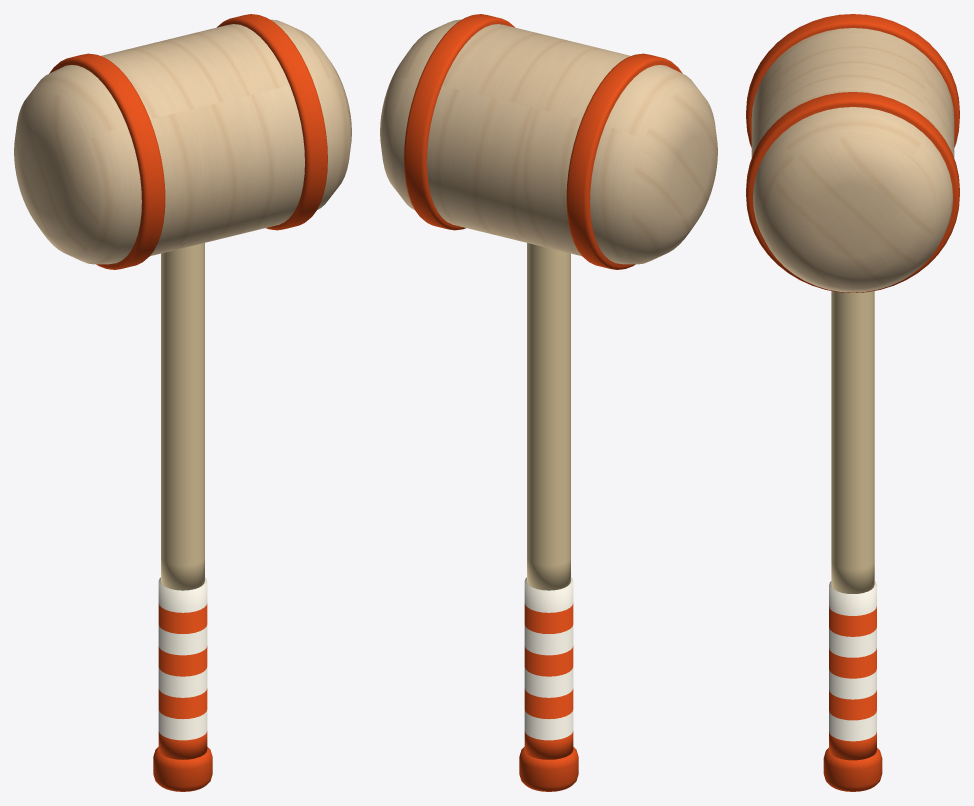
The model's file is hammer_kidaru.fbx.
3 renders of one model, left to right at view 1: azimuth 30°, elevation 25°; view 2: azimuth 150°, elevation 25°; view 3: azimuth 270°, elevation 25°, orthographic.
Parts seen in each view (by area): view 1: kidaru_hammer; view 2: kidaru_hammer; view 3: kidaru_hammer.
Boxes of the visible parts, <box> form: kidaru_hammer: <box>14,14,351,791</box>; kidaru_hammer: <box>380,14,717,791</box>; kidaru_hammer: <box>746,14,959,791</box>.
Size of the model in its own units: 1.04 by 2.61 by 0.696.
Materials: 5 (1 with a texture image).
